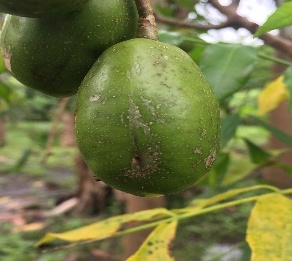Coc: (71, 38, 229, 212)
